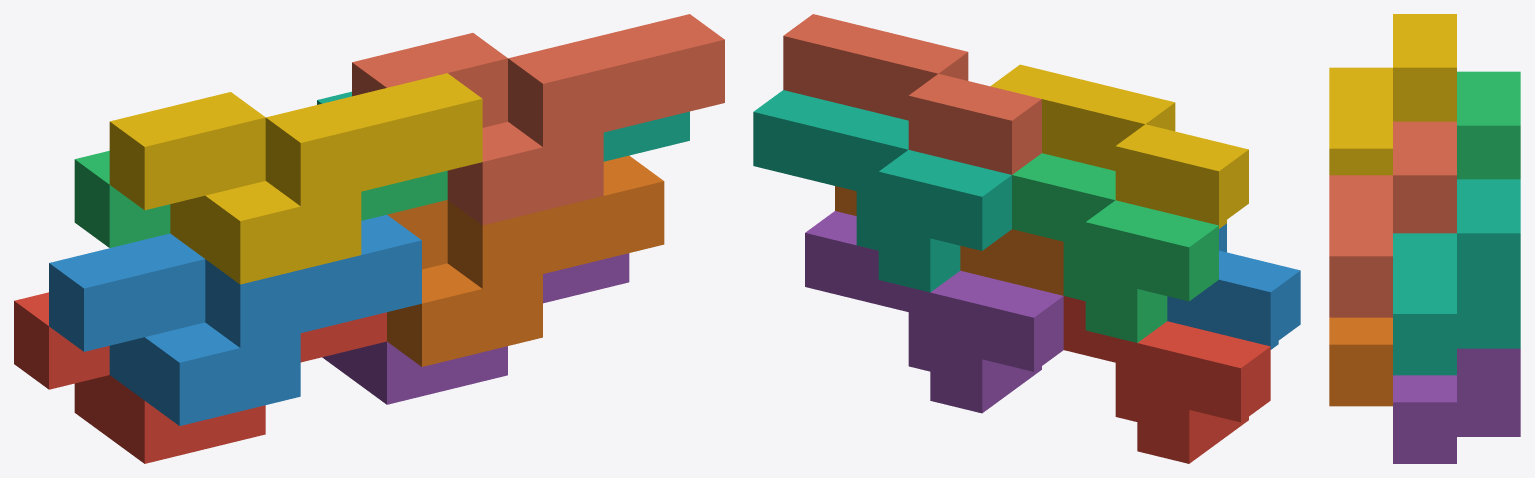
The model's file is tiling.obj.
3 views of the same model, side by side, from view 1: azimuth 30°, elevation 25°; view 2: azimuth 150°, elevation 25°; view 3: azimuth 270°, elevation 25° (orthographic). The views are drawn at different scales.
Parts seen in each view (by area): view 1: copy_1_domain_4, copy_1_domain_2, copy_1_domain_8, copy_1_domain_6, copy_1_domain_1, copy_1_domain_5, copy_1_domain_3, copy_1_domain_7; view 2: copy_1_domain_7, copy_1_domain_8, copy_1_domain_3, copy_1_domain_5, copy_1_domain_4, copy_1_domain_1, copy_1_domain_2, copy_1_domain_6; view 3: copy_1_domain_7, copy_1_domain_8, copy_1_domain_4, copy_1_domain_5, copy_1_domain_3, copy_1_domain_6.
Boxes of the visible parts, x1=… form: copy_1_domain_4: x1=109, y1=73, x2=482, y2=284; copy_1_domain_2: x1=49, y1=214, x2=421, y2=425; copy_1_domain_8: x1=352, y1=14, x2=724, y2=225; copy_1_domain_6: x1=387, y1=155, x2=664, y2=366; copy_1_domain_1: x1=14, y1=292, x2=386, y2=463; copy_1_domain_5: x1=322, y1=253, x2=629, y2=404; copy_1_domain_3: x1=74, y1=150, x2=447, y2=247; copy_1_domain_7: x1=317, y1=91, x2=689, y2=161; copy_1_domain_7: x1=753, y1=90, x2=1011, y2=292; copy_1_domain_8: x1=783, y1=14, x2=1041, y2=174; copy_1_domain_3: x1=1012, y1=153, x2=1218, y2=342; copy_1_domain_5: x1=805, y1=211, x2=1063, y2=413; copy_1_domain_4: x1=990, y1=64, x2=1248, y2=228; copy_1_domain_1: x1=1063, y1=296, x2=1270, y2=463; copy_1_domain_2: x1=1167, y1=223, x2=1300, y2=349; copy_1_domain_6: x1=835, y1=186, x2=1063, y2=295; copy_1_domain_7: x1=1393, y1=179, x2=1520, y2=375; copy_1_domain_8: x1=1329, y1=121, x2=1456, y2=317; copy_1_domain_4: x1=1329, y1=14, x2=1456, y2=175; copy_1_domain_5: x1=1393, y1=348, x2=1520, y2=463; copy_1_domain_3: x1=1457, y1=71, x2=1520, y2=179; copy_1_domain_6: x1=1329, y1=317, x2=1392, y2=406.
Bounding box in the file's own units: 10 × 5 × 3.
